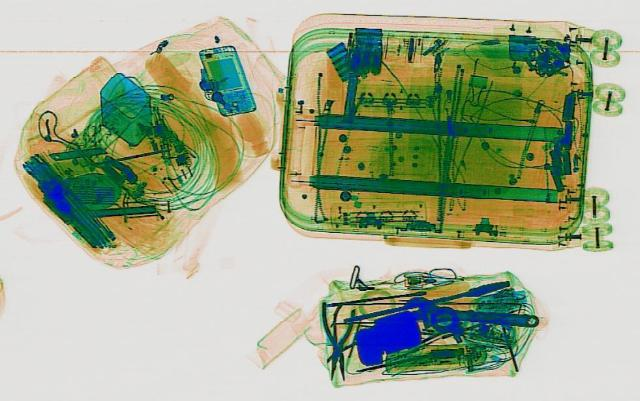Wrench: (396, 293, 542, 335)
